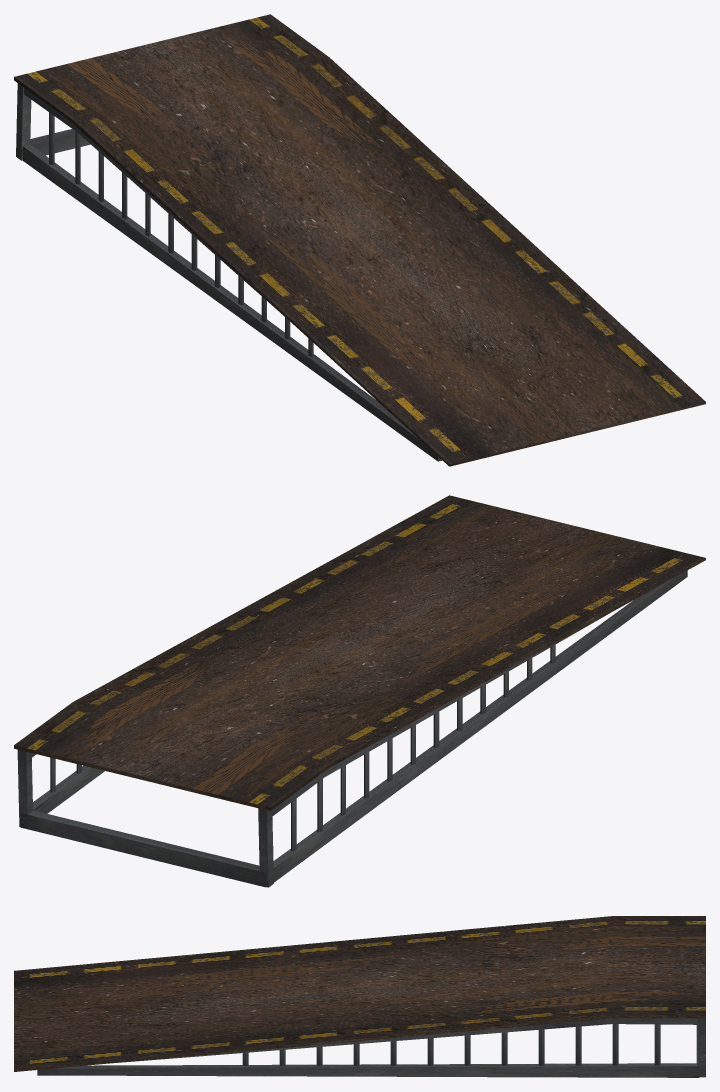
Rendered from bicycel ramp (2).fbx.
3 renders of one model, top to bottom at view 1: azimuth 30°, elevation 25°; view 2: azimuth 150°, elevation 25°; view 3: azimuth 270°, elevation 25°, orthographic. The views are drawn at different scales.
Visible parts, largest first — view 1: RAMP_pCube118; view 2: RAMP_pCube118; view 3: RAMP_pCube118.
Part boxes in pixels (<box>): RAMP_pCube118: <box>14,14,705,466</box>; RAMP_pCube118: <box>14,495,705,887</box>; RAMP_pCube118: <box>14,916,705,1077</box>.
Size of the model in its own units: 917 by 276 by 2697.
